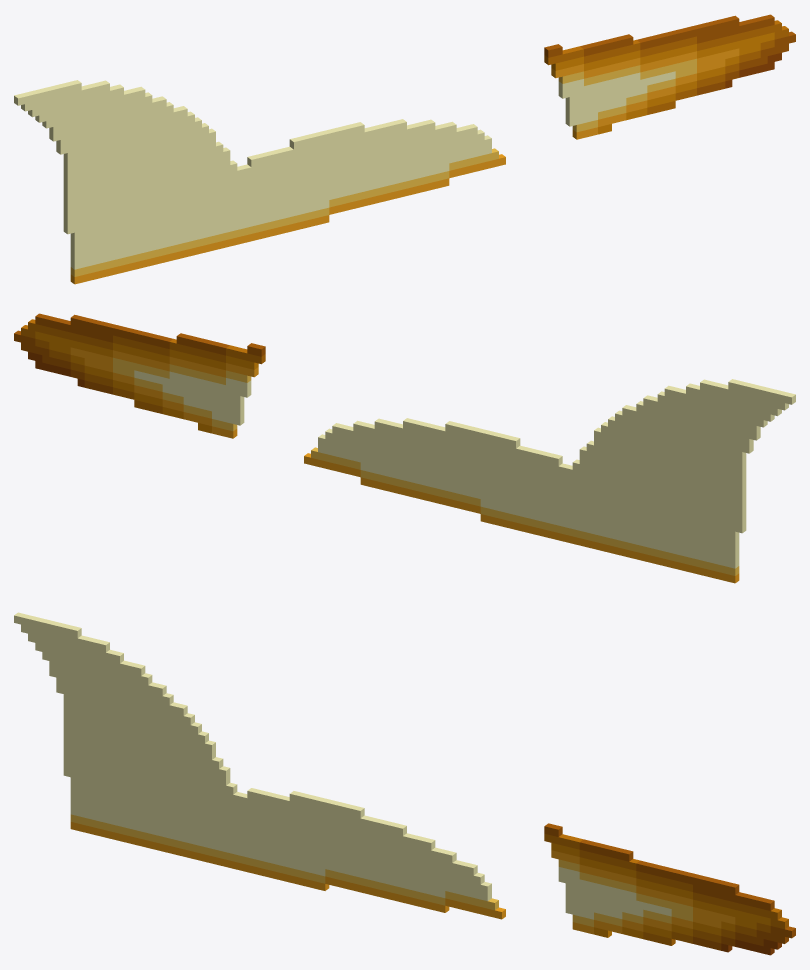
The model's file is Fight_211_2_07_fx.obj.
The picture shows the model from 3 angles, top to bottom: view 1: azimuth 30°, elevation 25°; view 2: azimuth 150°, elevation 25°; view 3: azimuth 330°, elevation 25°; orthographic projection.
Size of the model in its own units: 11 by 2.7 by 0.1.
Materials: 1 (1 with a texture image).
